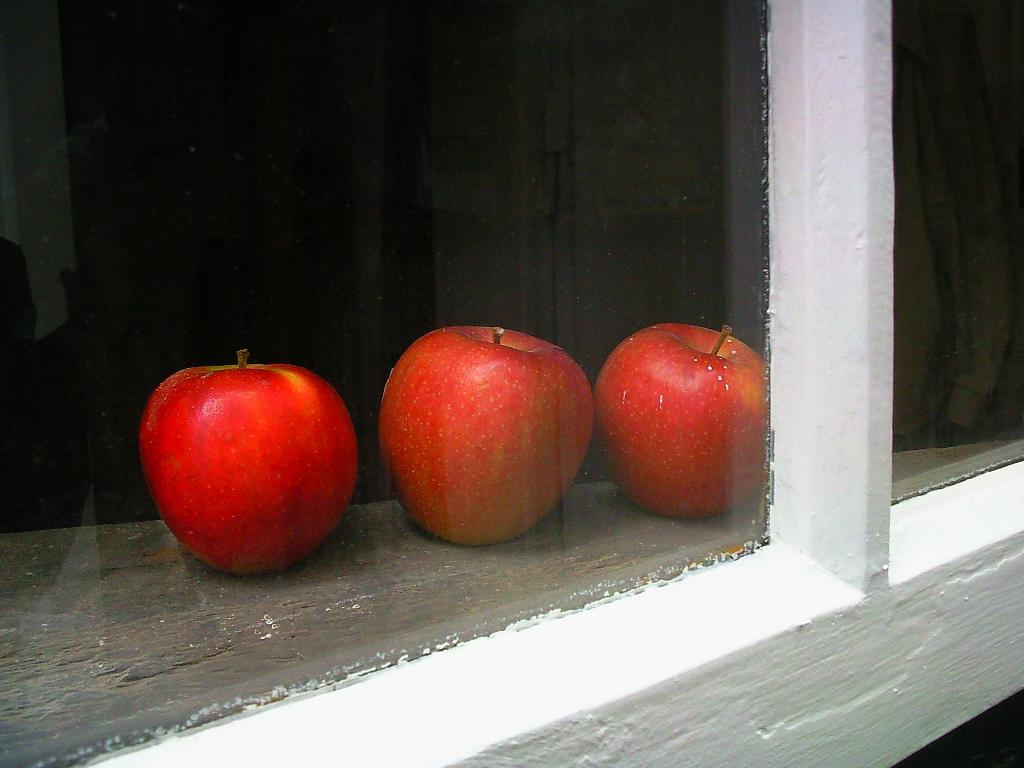Apple: (369, 322, 587, 543), (142, 349, 355, 570), (596, 315, 775, 521)
